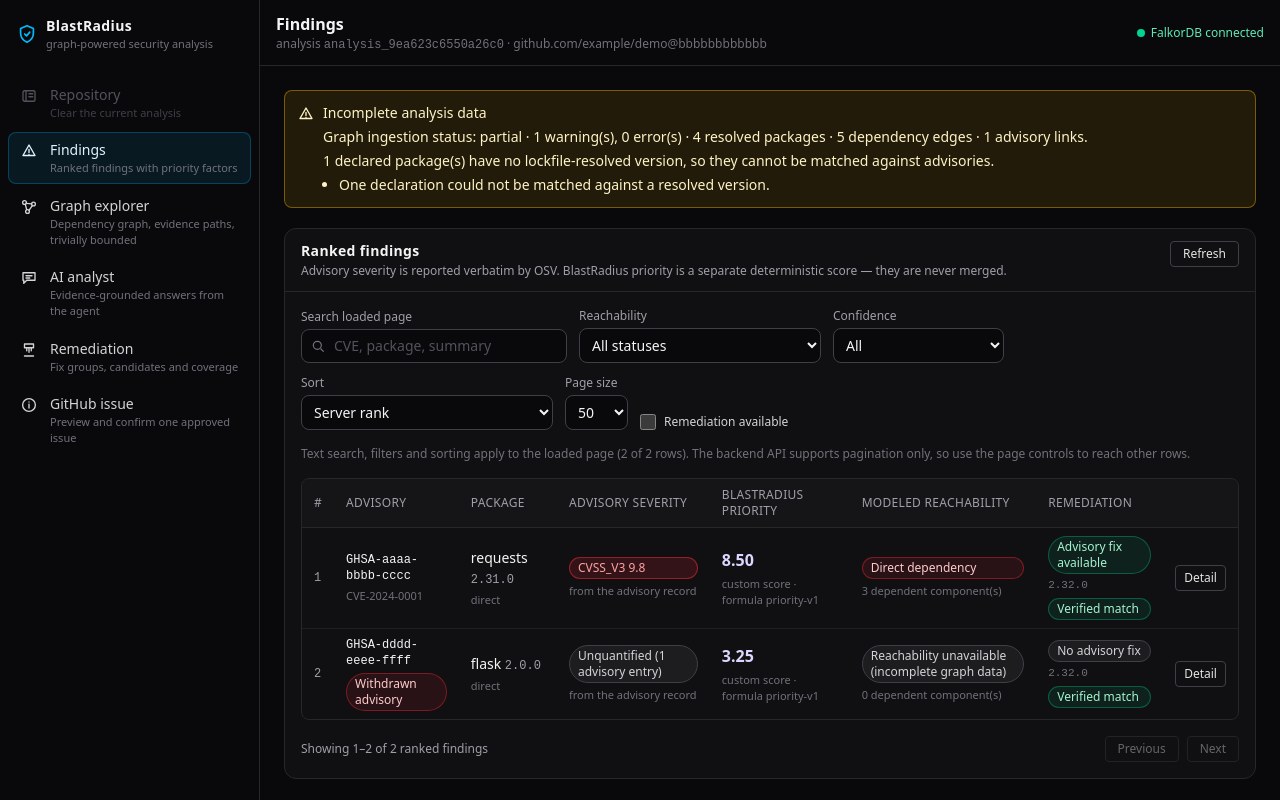
Test: Screen B — ranked findings › loads full finding detail with priority factors and the remediation plan
Check: the text "GHSA-aaaa-bbbb-cccc" is shown, box [346, 553, 418, 583]
What coordinates should you click on to do the following:
click the button "Detail" in the row of "GHSA-aaaa-bbbb-cccc"
I would click on:
 (1201, 578)
Its box is [1175, 565, 1226, 591].
(page scrolled)
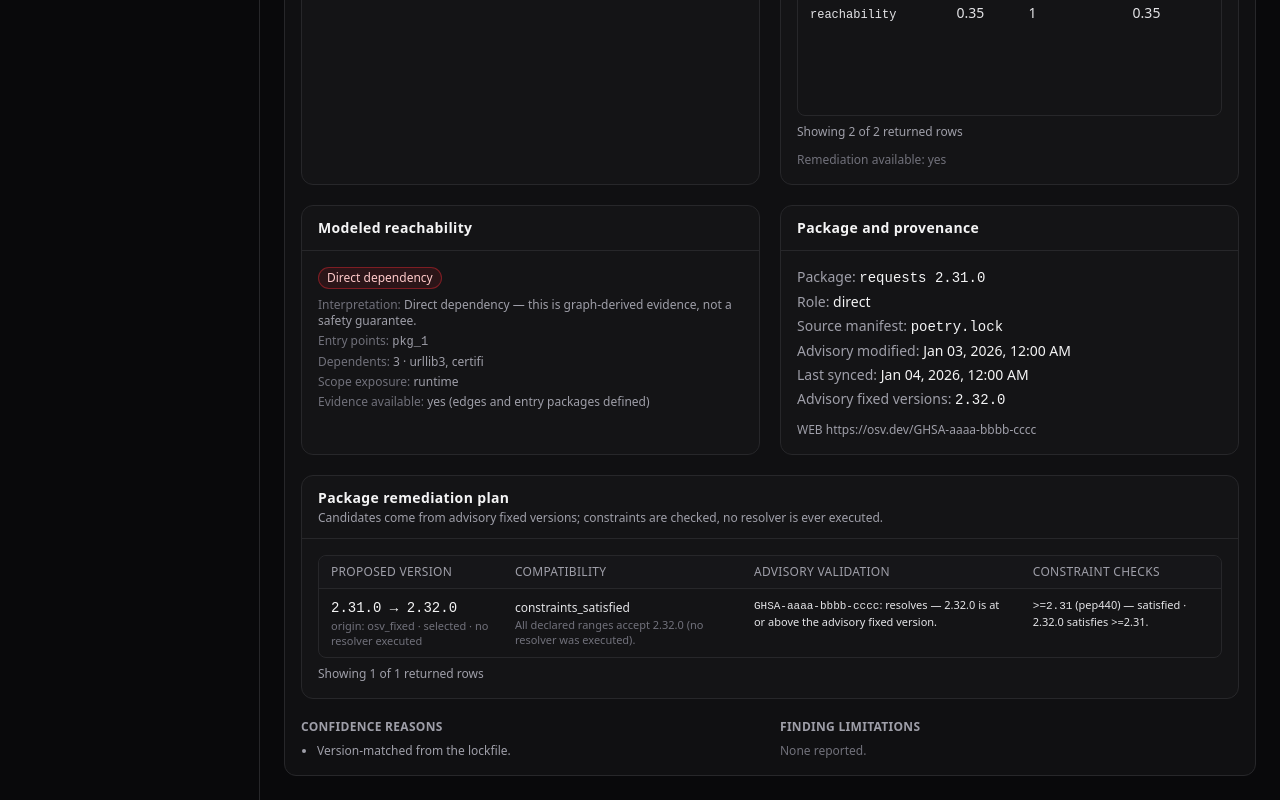
Check: the element "Package remediation plan" is shown, box [301, 475, 1239, 699]
Check: the text "2.31.0 → 2.32.0" is shown, box [331, 600, 457, 616]
Check: the text "origin: osv_fixed · selected · no resolver executed" is shown, box [331, 618, 491, 649]
